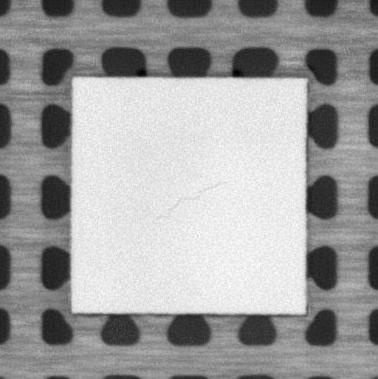DIE_CRACK: (155, 179, 226, 225)
